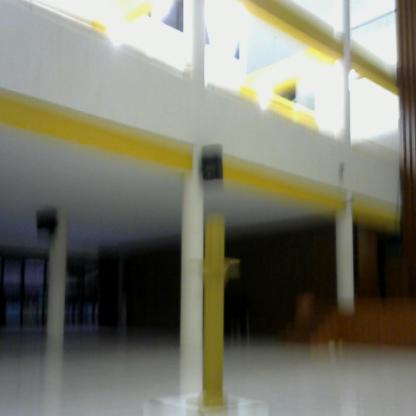pole: (185, 216, 249, 416)
